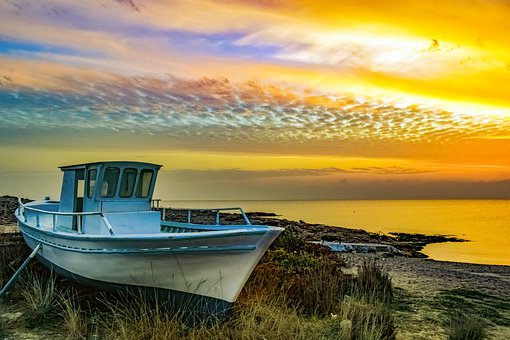sky: (1, 3, 509, 161)
